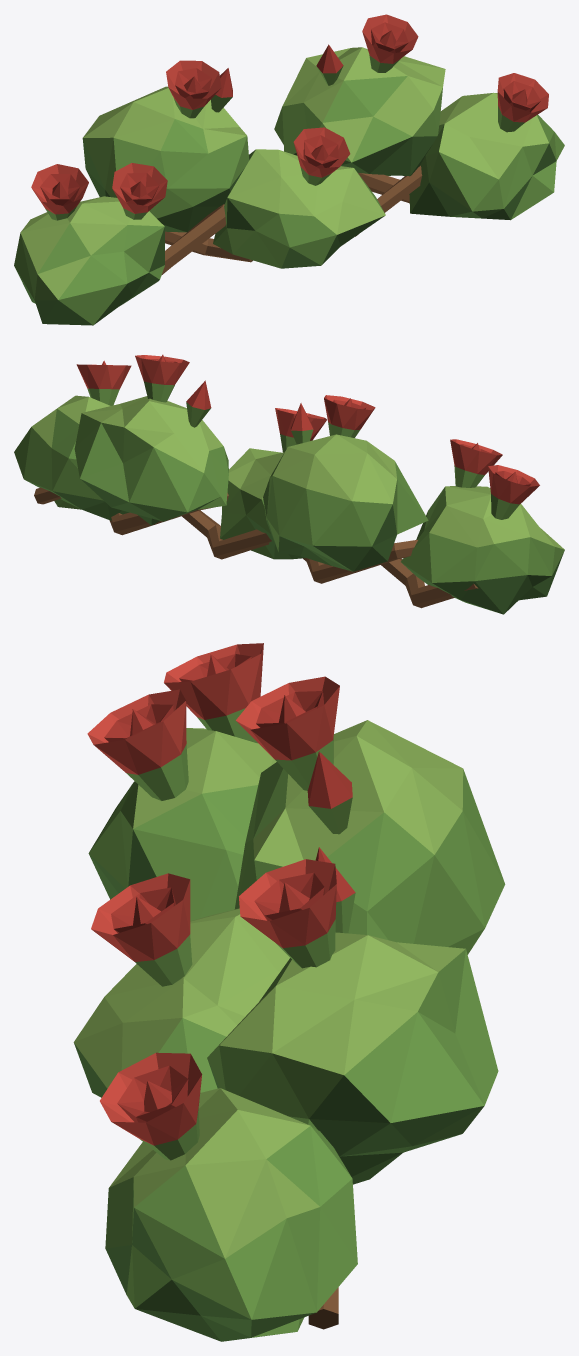
Rendered from FMS_Garden_Rose_Climbing_Top.fbx.
The picture shows the model from 3 angles, top to bottom: view 1: azimuth 30°, elevation 25°; view 2: azimuth 150°, elevation 25°; view 3: azimuth 270°, elevation 25°; orthographic projection. The views are drawn at different scales.
Parts seen in each view (by area): view 1: FMS_Garden_Rose_Climbing_Top_Body; view 2: FMS_Garden_Rose_Climbing_Top_Body; view 3: FMS_Garden_Rose_Climbing_Top_Body.
Boxes of the visible parts, x1,y1,x2,y2 form: FMS_Garden_Rose_Climbing_Top_Body: [14, 14, 564, 325]; FMS_Garden_Rose_Climbing_Top_Body: [14, 354, 564, 614]; FMS_Garden_Rose_Climbing_Top_Body: [73, 643, 505, 1341].
Bounding box in the file's own units: 1.57 × 0.539 × 0.5627.
1 material, 1 textured.
